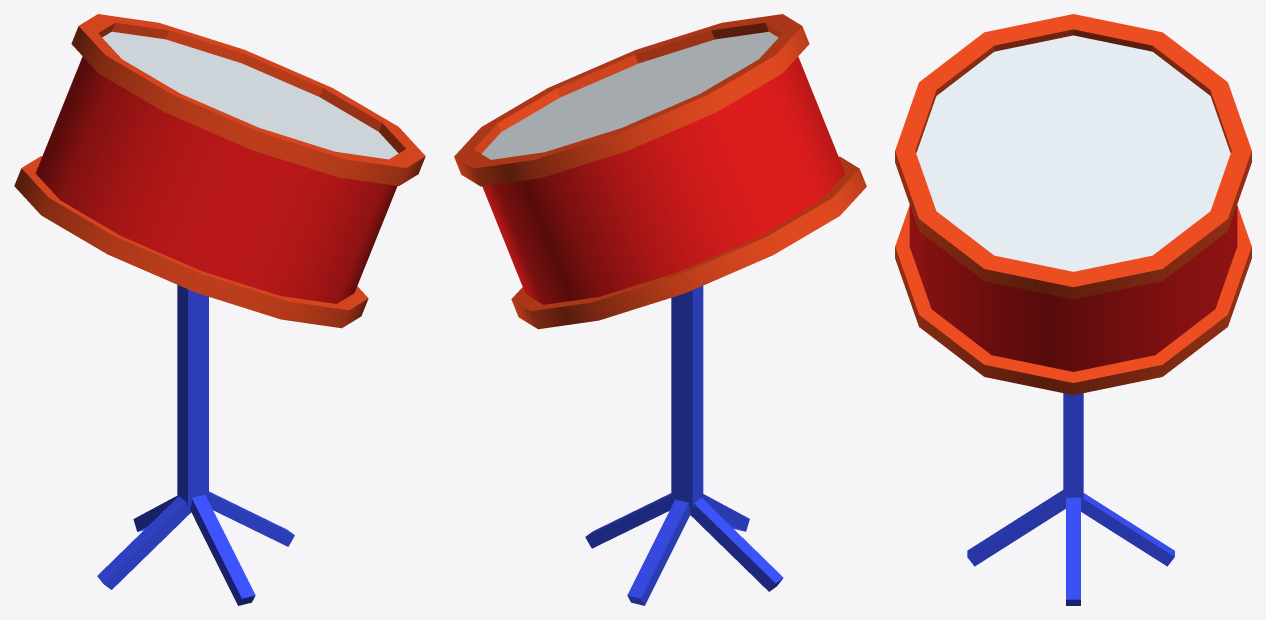
The model's file is trong.FBX.
3 views of the same model, side by side, from view 1: azimuth 30°, elevation 25°; view 2: azimuth 150°, elevation 25°; view 3: azimuth 270°, elevation 25° (orthographic). The views are drawn at different scales.
Parts seen in each view (by area): view 1: Box1212; view 2: Box1212; view 3: Box1212.
Boxes of the visible parts, x1,y1,x2,y2 form: Box1212: [14, 14, 425, 605]; Box1212: [454, 14, 866, 605]; Box1212: [895, 14, 1251, 605].
Size of the model in its own units: 1.17 by 1.67 by 1.06.
